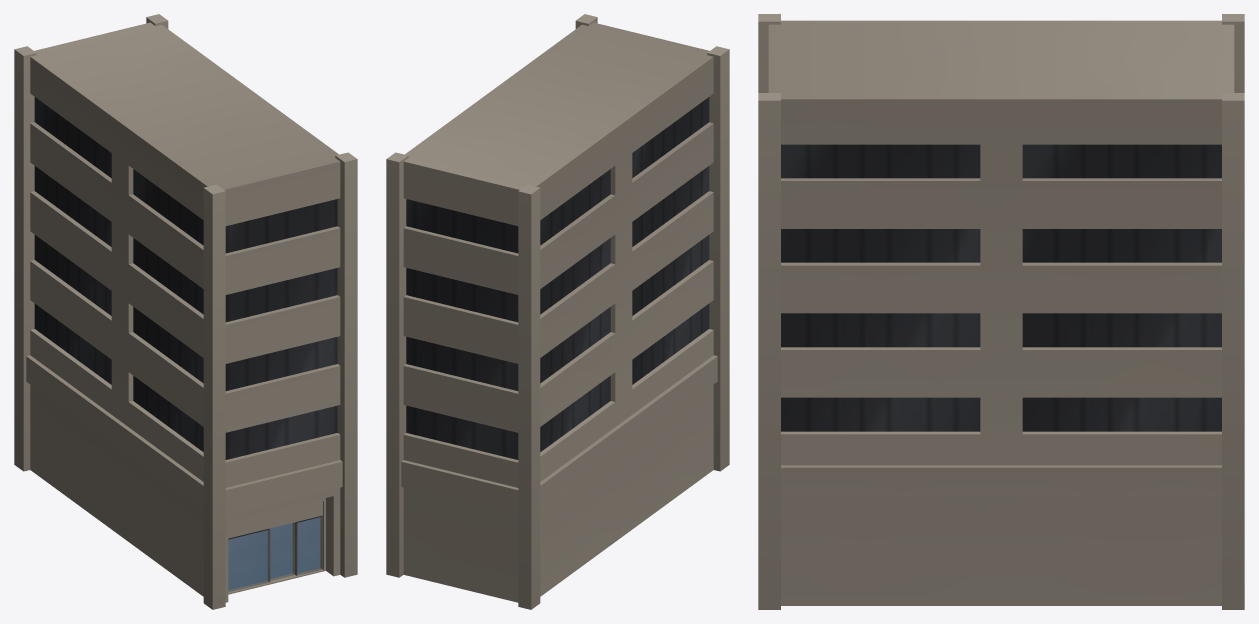
File: Bld_Building_D.fbx
3 views of the same model, side by side, from view 1: azimuth 30°, elevation 25°; view 2: azimuth 150°, elevation 25°; view 3: azimuth 270°, elevation 25° (orthographic). The views are drawn at different scales.
Parts seen in each view (by area): view 1: Bld_Building_D; view 2: Bld_Building_D; view 3: Bld_Building_D.
Boxes of the visible parts, x1,y1,x2,y2 form: Bld_Building_D: (14, 14, 357, 609); Bld_Building_D: (386, 14, 729, 609); Bld_Building_D: (758, 14, 1244, 609).
Bounding box in the file's own units: 660 × 1810 × 1566.
